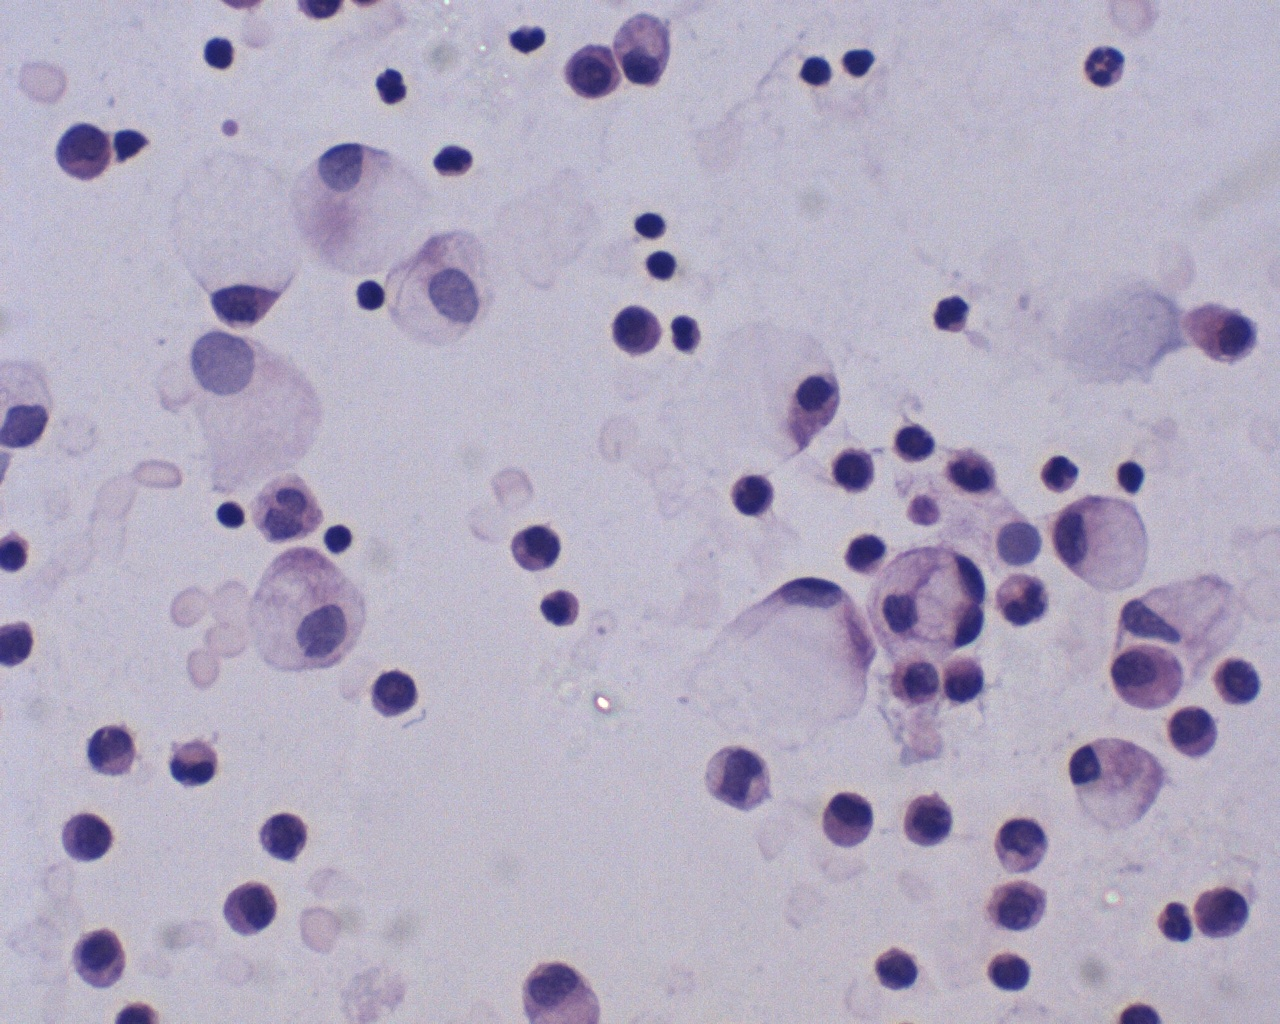ab: (46, 116, 113, 189), (987, 875, 1055, 942), (1190, 882, 1259, 947), (558, 39, 623, 102), (250, 802, 316, 865), (899, 788, 960, 851), (608, 303, 668, 363), (57, 810, 121, 865), (1207, 648, 1256, 712)
histo: (704, 567, 878, 730), (280, 140, 449, 274), (242, 546, 373, 676), (1064, 735, 1170, 843), (1051, 496, 1162, 596)
lymph: (626, 201, 680, 249), (793, 42, 837, 95), (210, 494, 246, 536), (321, 520, 357, 555), (354, 276, 385, 315)
meso: (812, 788, 879, 852)
neutro: (160, 734, 231, 793), (1080, 42, 1130, 94), (931, 294, 978, 339), (1155, 897, 1194, 947), (372, 63, 411, 111)
